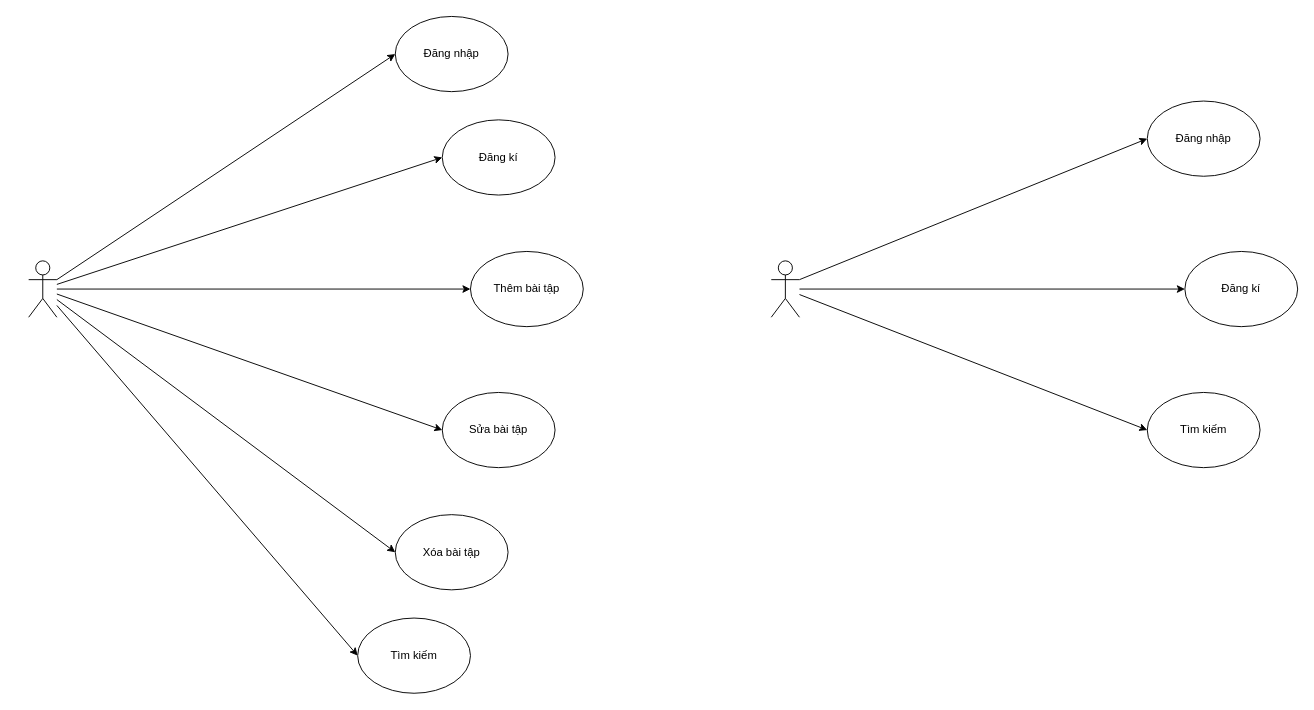
This 1314x710 diagram has some shape labels left out. The box of each missing label's shape, as (x1, y1, x2, y2) in pixels:
Giảng viên: (28, 260, 57, 317)
Học viên: (770, 260, 799, 317)
